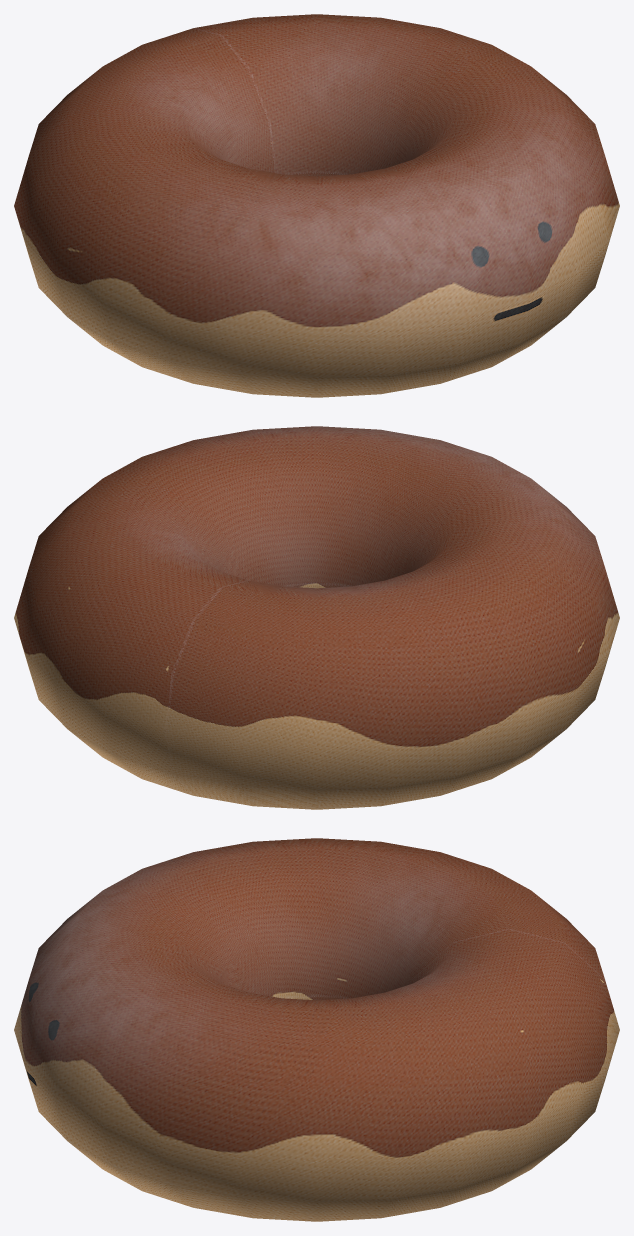
The model's file is Plushie_Donut.FBX.
3 renders of one model, top to bottom at view 1: azimuth 30°, elevation 25°; view 2: azimuth 150°, elevation 25°; view 3: azimuth 270°, elevation 25°, orthographic.
Parts seen in each view (by area): view 1: Plushie_Donut; view 2: Plushie_Donut; view 3: Plushie_Donut.
Part boxes in pixels (x1,y1,x2,y2): Plushie_Donut: [14, 14, 619, 397]; Plushie_Donut: [14, 426, 619, 809]; Plushie_Donut: [14, 838, 619, 1221].
Size of the model in its own units: 25.44 by 9.34 by 25.44.
